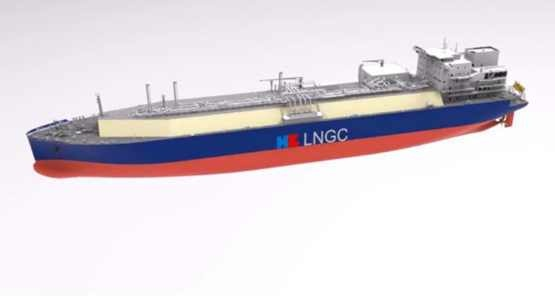Cargoship: (21, 39, 528, 180)
